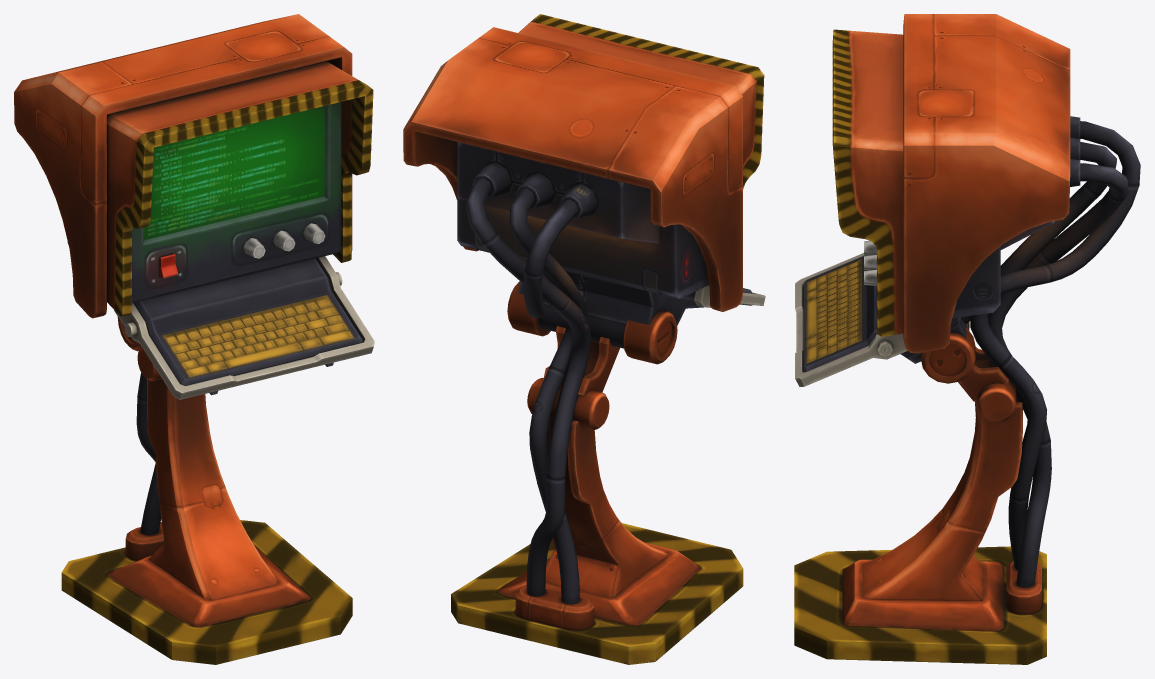
Rendered from Terminal.fbx.
3 views of the same model, side by side, from view 1: azimuth 30°, elevation 25°; view 2: azimuth 150°, elevation 25°; view 3: azimuth 270°, elevation 25° (orthographic).
Visible parts, largest first — view 1: Terminal; view 2: Terminal; view 3: Terminal.
Boxes of the visible parts, x1,y1,x2,y2 form: Terminal: (14,14,374,664); Terminal: (403,14,765,664); Terminal: (794,14,1140,664).
Size of the model in its own units: 210 by 242 by 417.
